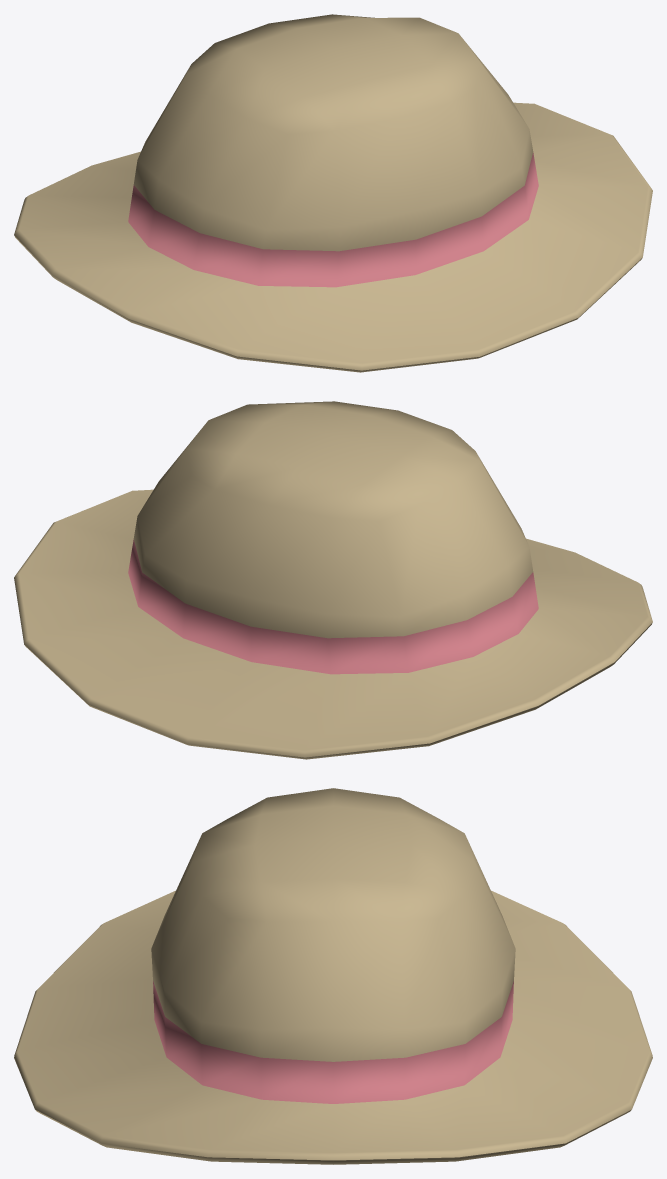
File: Hat.fbx
3 views of the same model, one above another, from view 1: azimuth 30°, elevation 25°; view 2: azimuth 150°, elevation 25°; view 3: azimuth 270°, elevation 25° (orthographic). The views are drawn at different scales.
Visible parts, largest first — view 1: Hat; view 2: Hat; view 3: Hat.
Part boxes in pixels (x1=…): Hat: x1=14, y1=14, x2=652, y2=372; Hat: x1=14, y1=401, x2=652, y2=759; Hat: x1=14, y1=788, x2=652, y2=1164.
Bounding box in the file's own units: 24.08 × 8.41 × 21.69.
